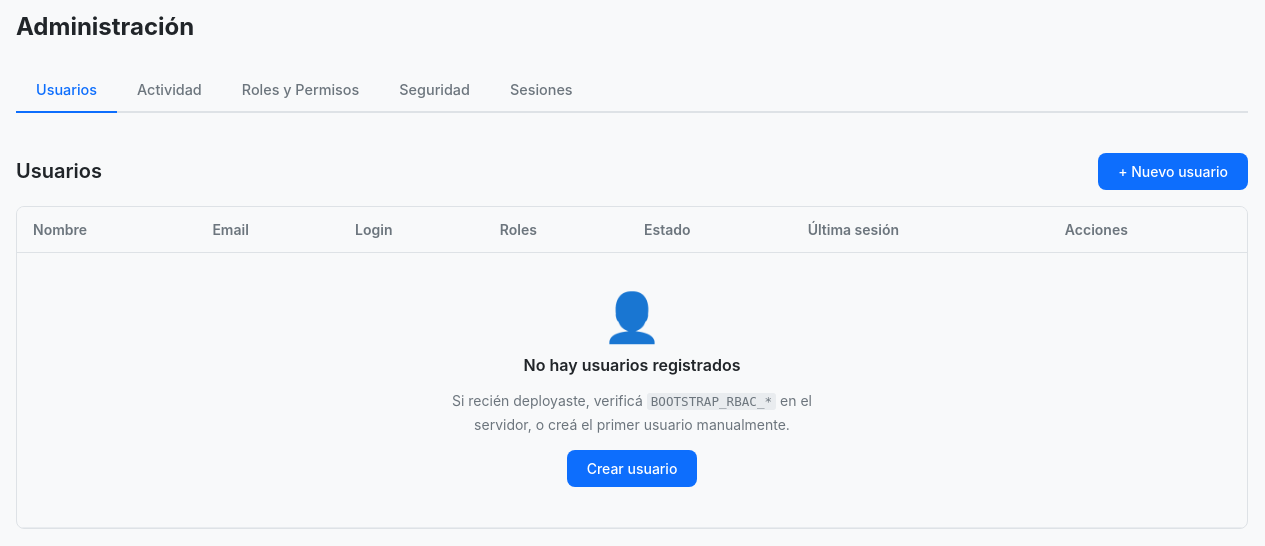
Test: AdminPage › Roles tab save bar appears when non-system role is selected
Click the button "Roles y Permisos".
click(301, 91)  # box [222, 69, 379, 113]
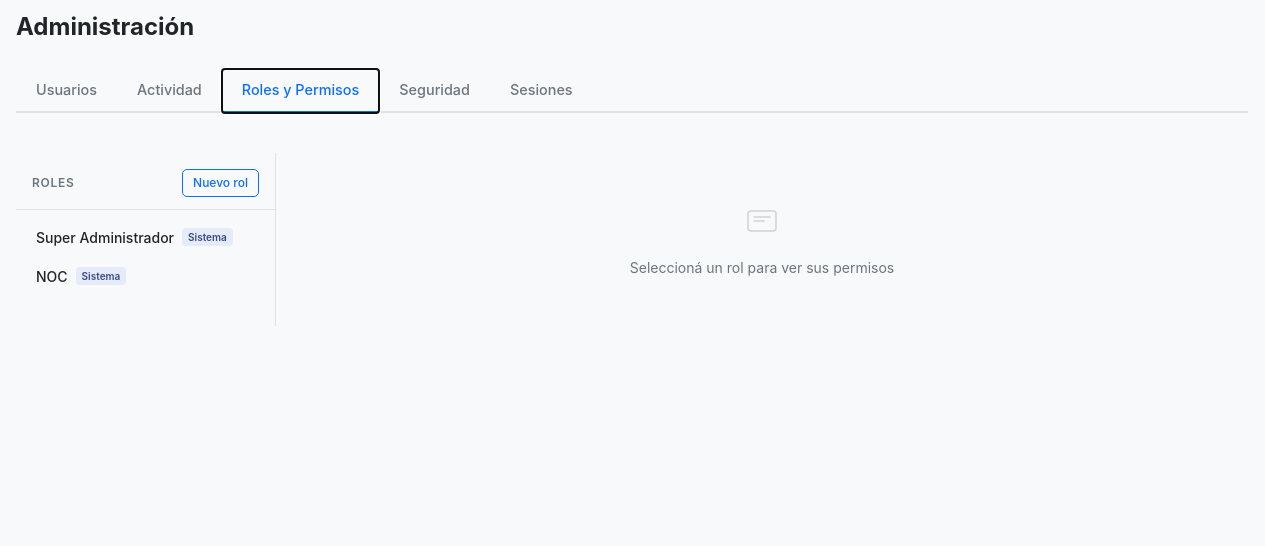
NOC is a system role — save bar is visible (just disabled when not dirty)
Click the text "NOC".
click(52, 276)  # box [36, 266, 68, 287]
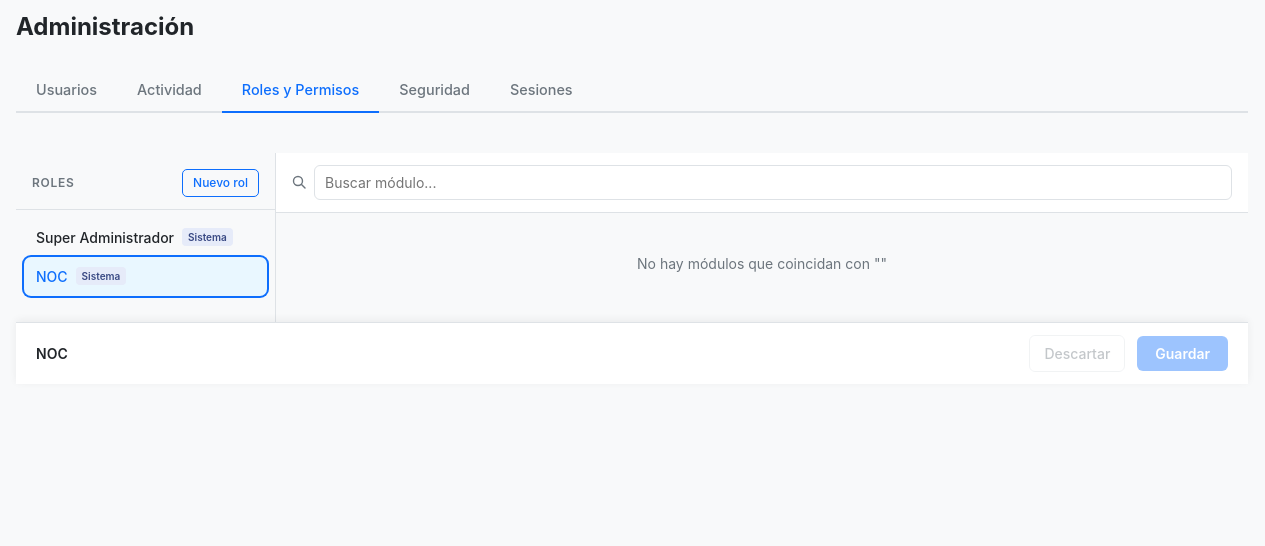
Result: the button "Guardar" is shown at [1137, 336, 1228, 371]
